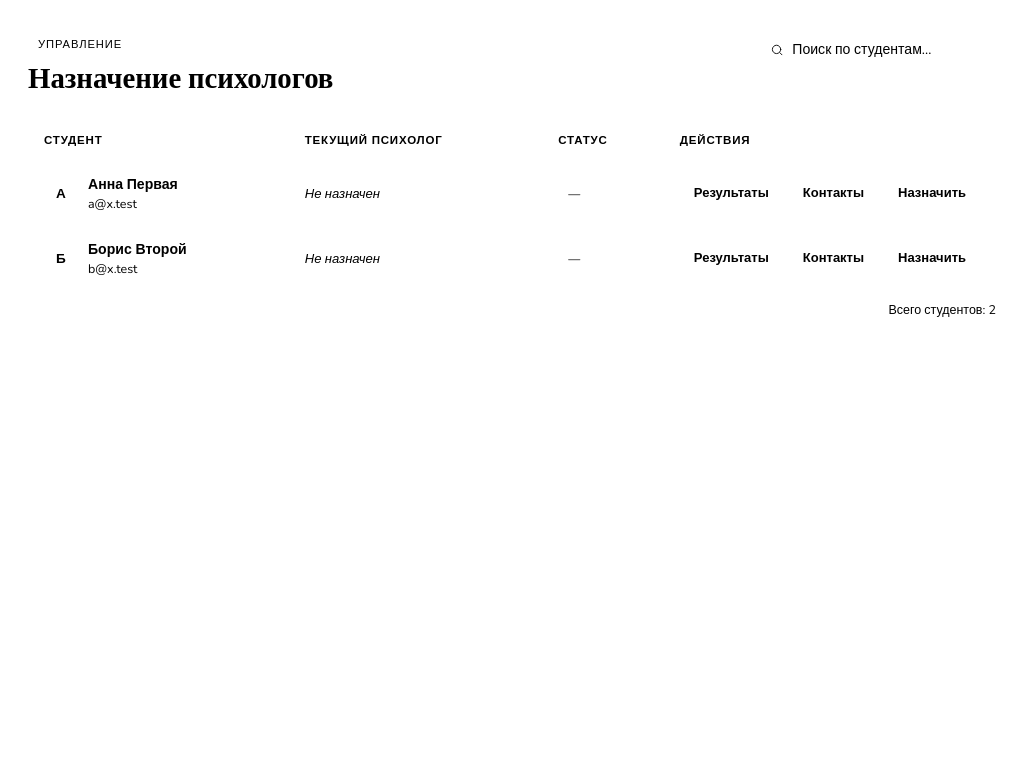
Test case: «Контакты» открывает диалог выбранного студента и запрашивает его uuid
Click the button with aria-label "Контакты: Борис Второй". click: (833, 259)
box: [789, 242, 878, 276]
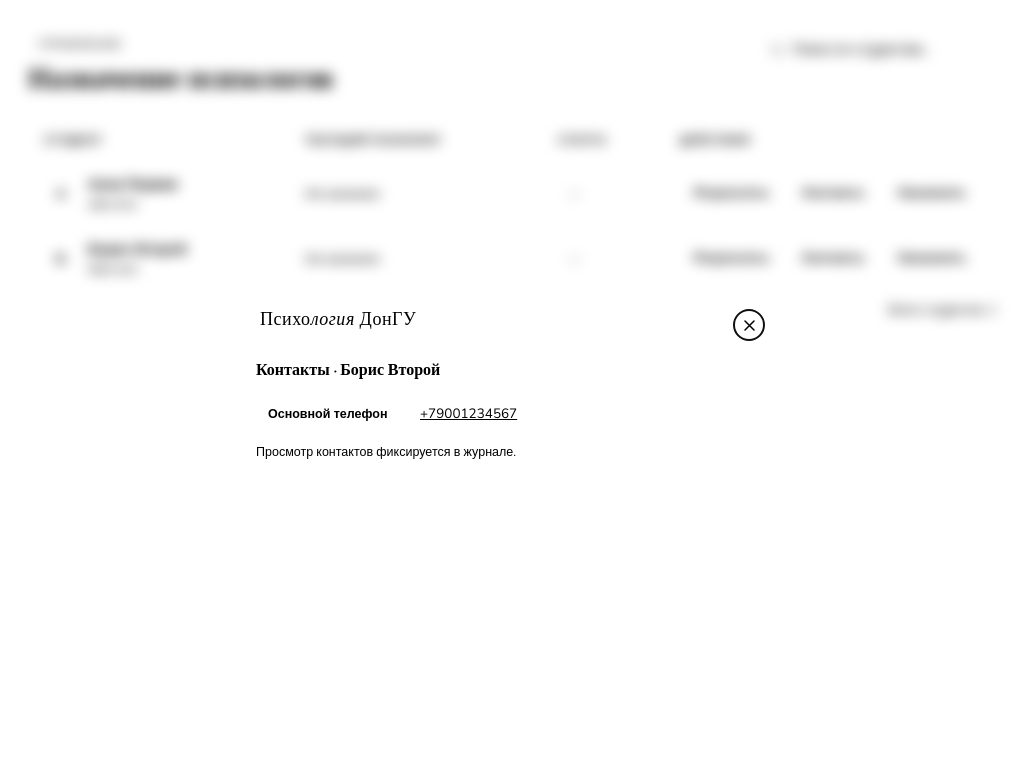
Check: the text "Основной телефон" is shown, box [268, 405, 408, 422]
Check: the text "Просмотр контактов фиксируется в журнале." is shown, box [256, 443, 516, 460]
